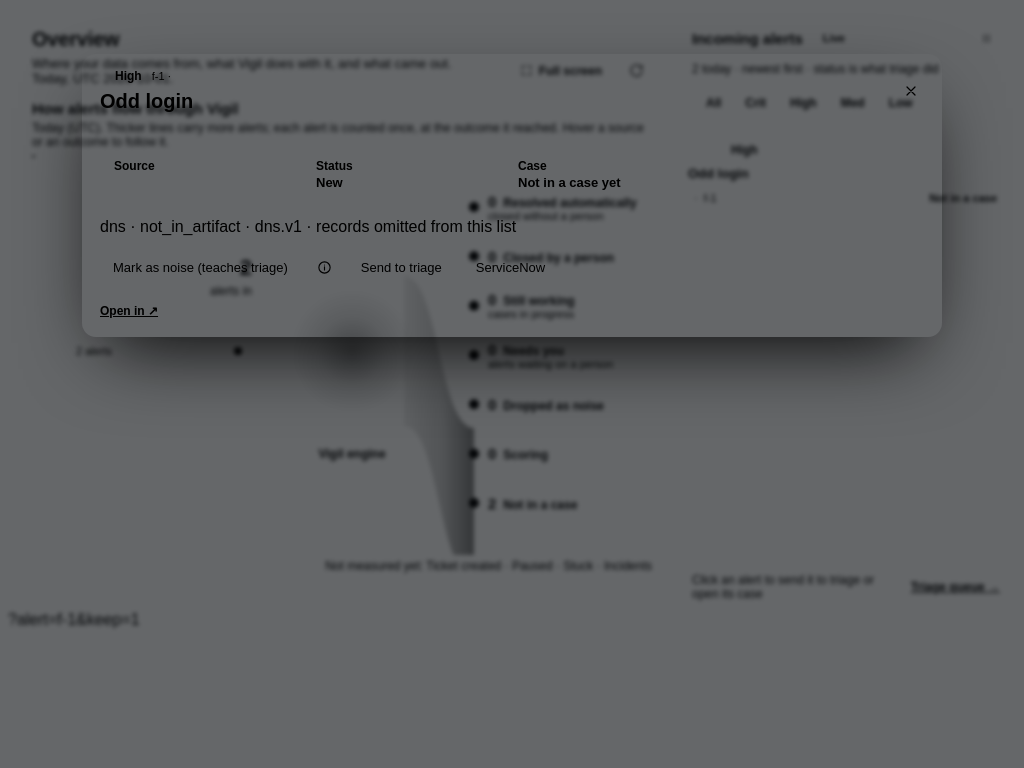
Scenario: OverviewScreen › opens an alert from ?alert= with the feed row, and closing removes only that param
This screenshot has width=1024, height=768.
expect the button "Mark as noise (teaches triage)" is shown: met, box 100,252 -> 301,283
expect the text "Odd login" is shown: met, box 100,90 -> 193,112
Click the button named "close": (911, 91) 898,78 -> 924,104
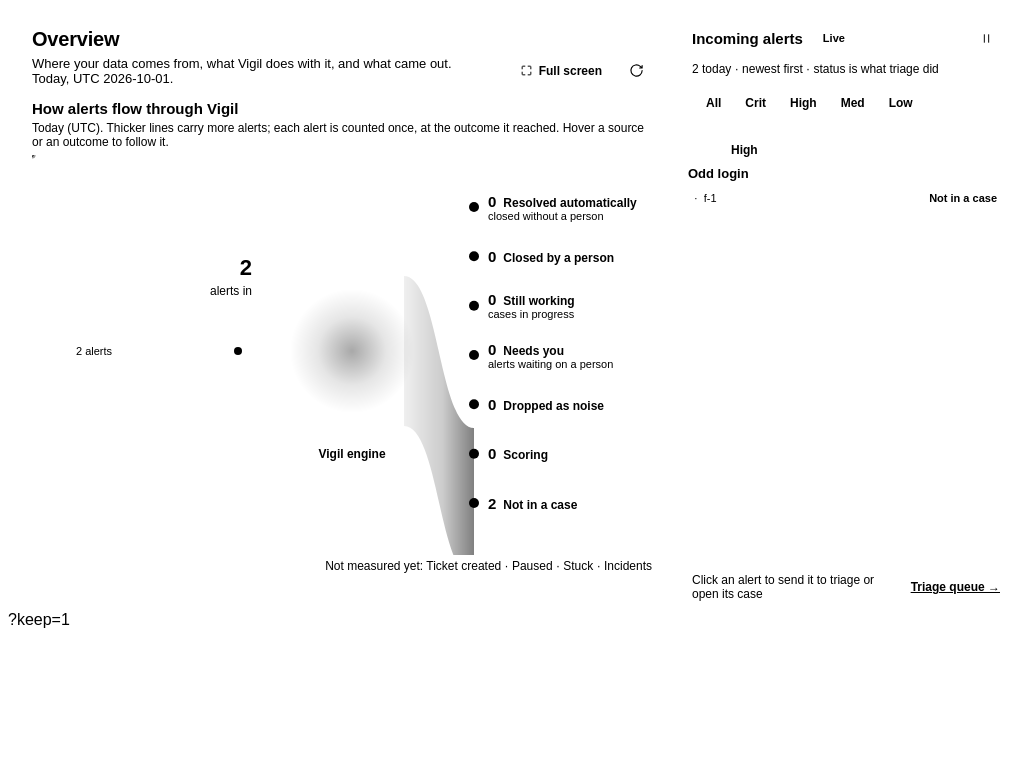
expect the text with test id "where" reads "?keep=1": met, box 8,611 -> 70,628
Click the text "f-1": (710, 198) 704,192 -> 716,204
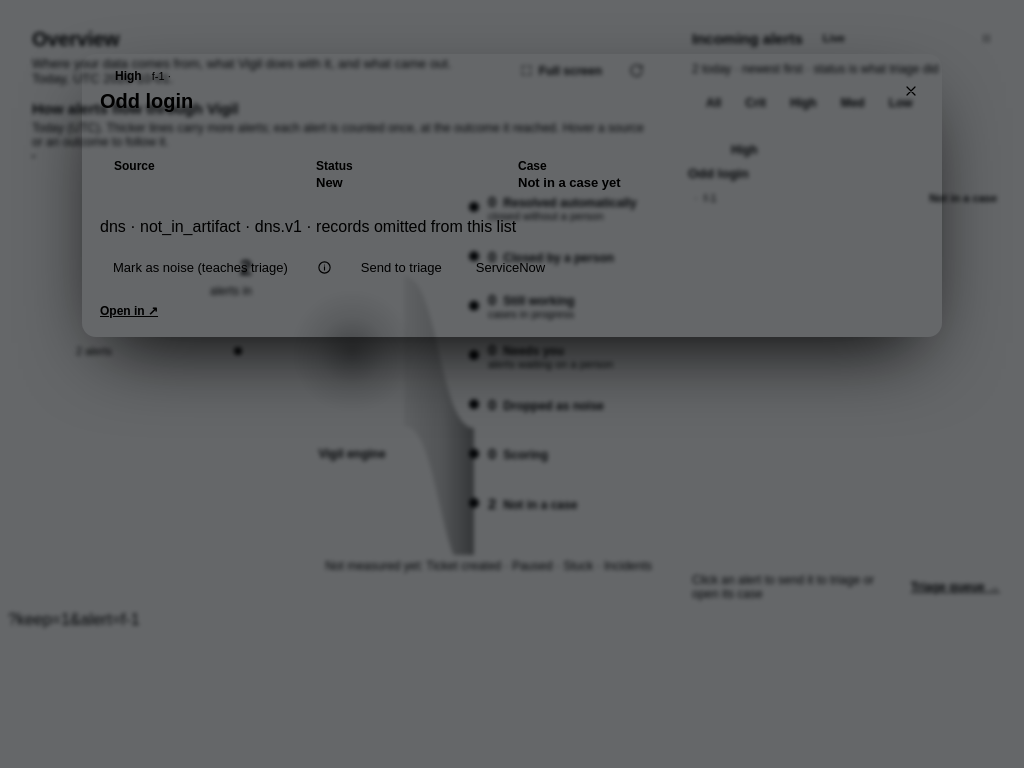
expect the text with test id "where" reads "?keep=1&alert=f-1": met, box 8,611 -> 140,628
